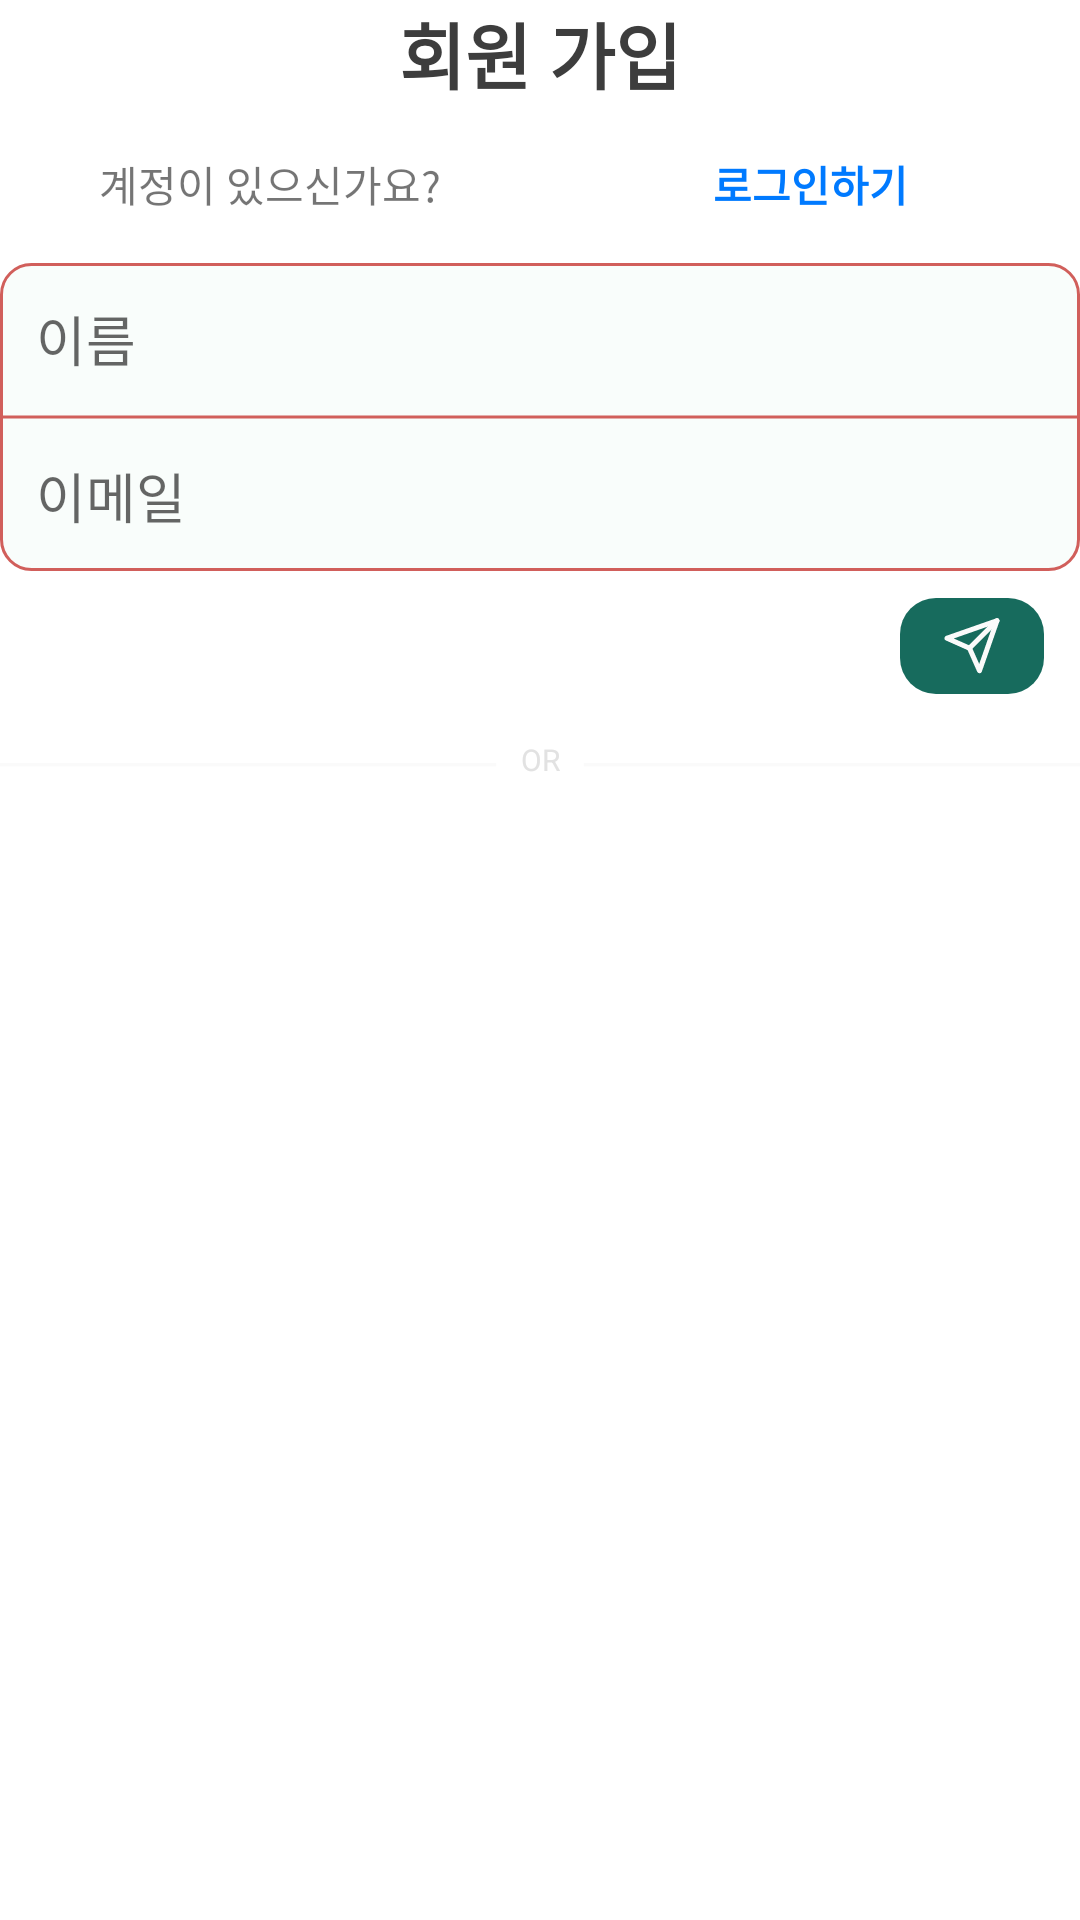

Point at icon controls on the screen. Image size 1080×1920, points as (x=x, y=y).
send: (x=972, y=646)
